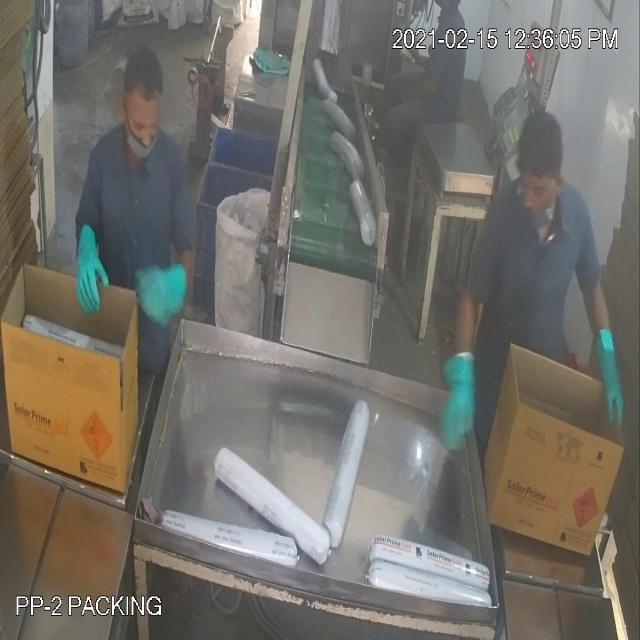Guantes: (583, 300, 631, 436), (64, 210, 118, 328), (438, 331, 482, 468), (131, 255, 192, 332)
